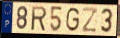3: (100, 7, 114, 34)
5: (49, 5, 63, 33)
8: (16, 6, 29, 31)
G: (65, 6, 81, 33)
R: (31, 5, 48, 32)
Z: (81, 7, 99, 34)
